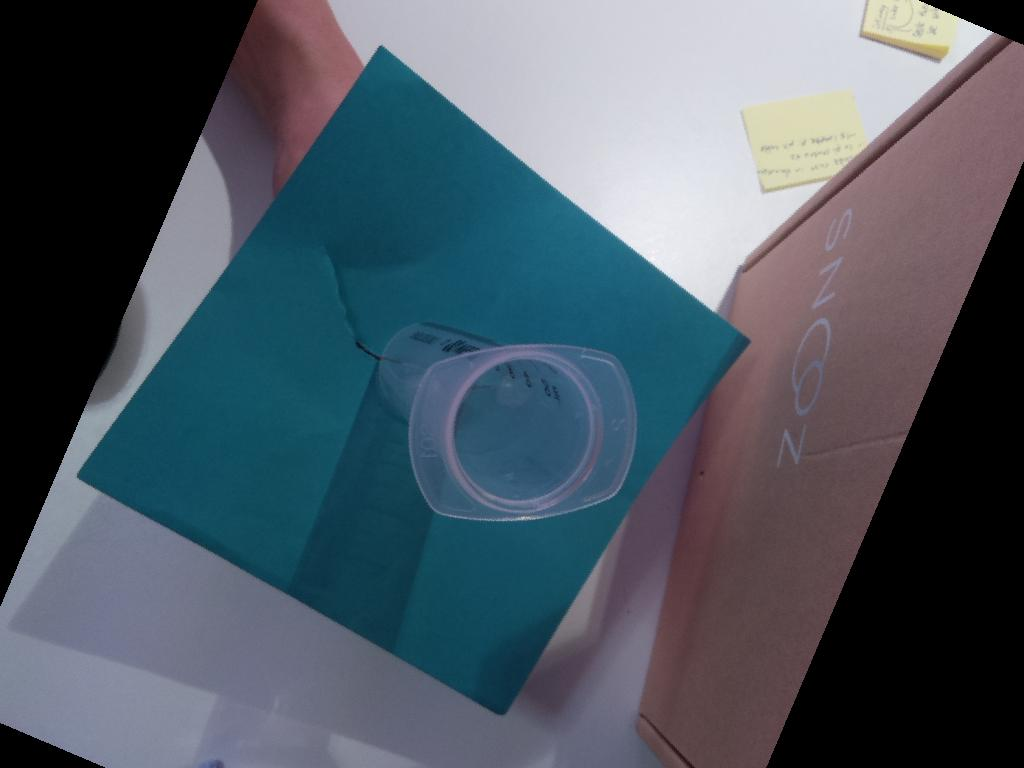clean: (409, 343, 638, 523)
